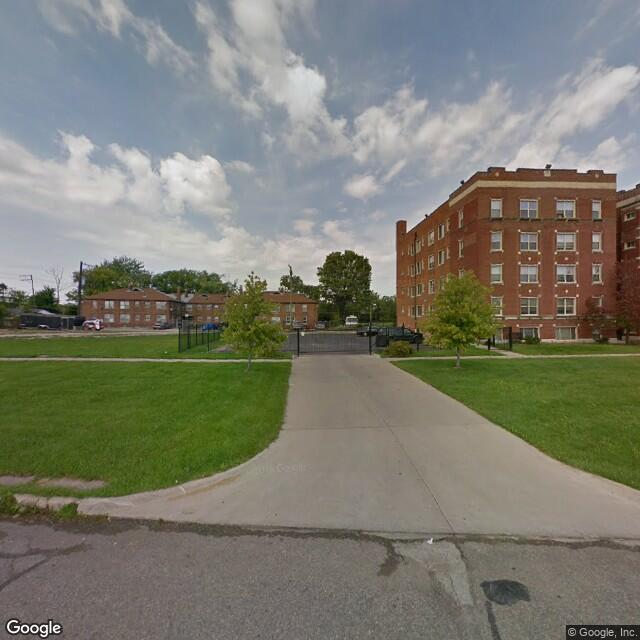litter: (425, 537, 436, 546), (163, 350, 169, 353)
